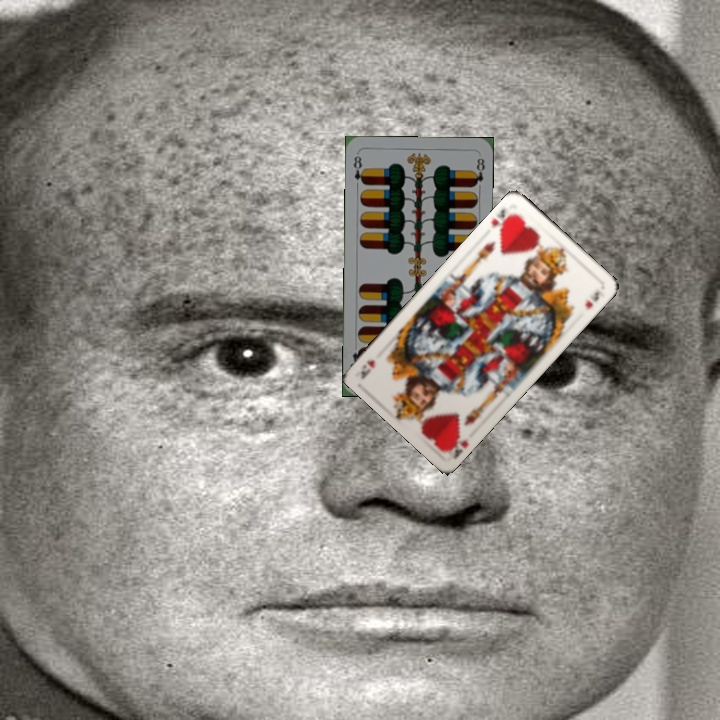E8: (349, 152, 368, 187)
HK: (441, 428, 471, 462), (487, 205, 518, 234)
